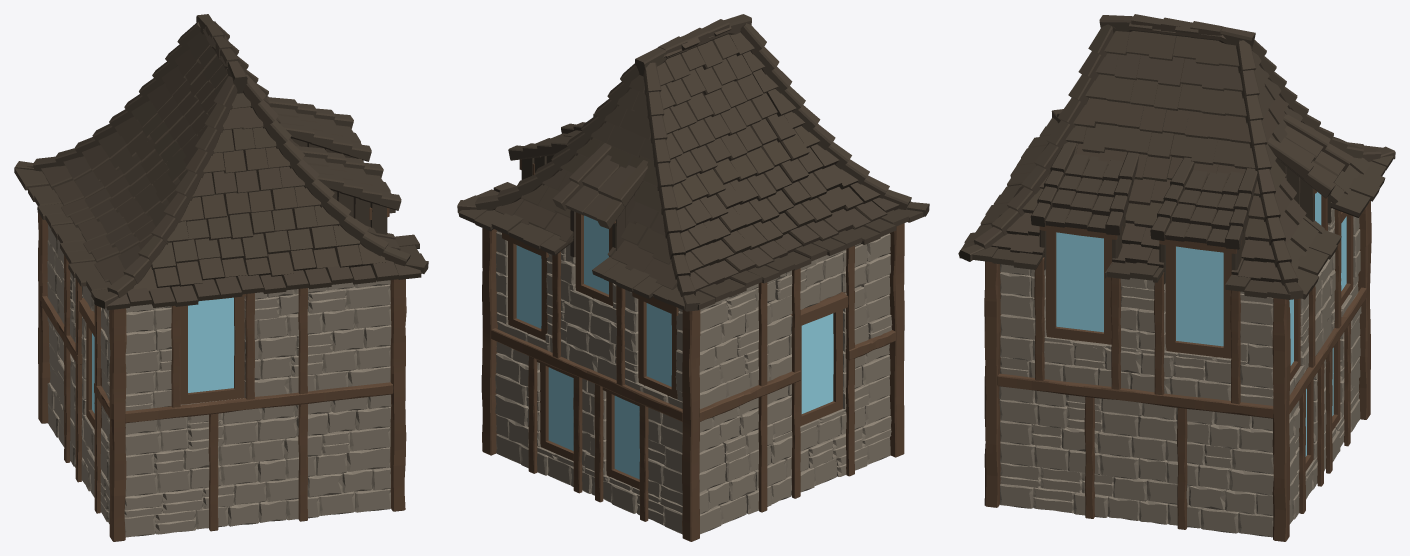
File: BuildingPart.fbx
3 views of the same model, side by side, from view 1: azimuth 30°, elevation 25°; view 2: azimuth 150°, elevation 25°; view 3: azimuth 270°, elevation 25° (orthographic). The views are drawn at different scales.
Visible parts, largest first — view 1: Pane, Beam_Clone__7, Beam_Clone__5, Beam_Clone__1, Frame, Beam_Clone__6, SubBeam_Clone__4, SubBeam_Clone__5, SubBeam_Clone__Clone__2, SubBeam_Clone__6, Frame_2, SubBeam_Clone__7 (+79 smaller); view 2: Beam_Clone__6, Beam_Clone__7, Beam_Clone__4, Pane_2, Beam_Clone__3, Frame_2, Pane_6, Pane_5, Pane_7, Pane_8, Frame_7, Frame_8 (+28 smaller); view 3: Pane_3, Pane_1, Beam_Clone__4, Beam_Clone__5, Beam_Clone__2, Frame_3, Frame_1, Beam_Clone__6, Beam_Clone__3, SubBeam_Clone__8, SubBeam_Clone__9, SubBeam_Clone__11 (+95 smaller).
Boxes of the visible parts, x1=… form: Pane: x1=188, y1=297, x2=234, y2=392; Beam_Clone__7: x1=109, y1=308, x2=126, y2=541; Beam_Clone__5: x1=390, y1=279, x2=406, y2=511; Beam_Clone__1: x1=125, y1=382, x2=393, y2=423; Frame: x1=180, y1=294, x2=246, y2=404; Beam_Clone__6: x1=37, y1=211, x2=50, y2=423; SubBeam_Clone__4: x1=298, y1=404, x2=307, y2=521; SubBeam_Clone__5: x1=208, y1=413, x2=218, y2=531; SubBeam_Clone__Clone__2: x1=245, y1=293, x2=254, y2=399; SubBeam_Clone__6: x1=298, y1=288, x2=307, y2=394; Frame_2: x1=79, y1=297, x2=101, y2=429; SubBeam_Clone__7: x1=171, y1=305, x2=180, y2=407; Beam_Clone__6: x1=682, y1=310, x2=700, y2=541; Beam_Clone__7: x1=889, y1=223, x2=904, y2=457; Beam_Clone__4: x1=481, y1=228, x2=497, y2=455; Pane_2: x1=801, y1=313, x2=833, y2=413; Beam_Clone__3: x1=491, y1=328, x2=682, y2=421; Frame_2: x1=790, y1=292, x2=848, y2=426; Pane_6: x1=614, y1=395, x2=639, y2=479; Pane_5: x1=548, y1=367, x2=573, y2=450; Pane_7: x1=516, y1=245, x2=541, y2=328; Pane_8: x1=646, y1=303, x2=671, y2=386; Frame_7: x1=502, y1=232, x2=548, y2=340; Frame_8: x1=632, y1=292, x2=678, y2=399; Pane_3: x1=1176, y1=246, x2=1223, y2=346; Pane_1: x1=1056, y1=232, x2=1103, y2=332; Beam_Clone__4: x1=1272, y1=298, x2=1290, y2=541; Beam_Clone__5: x1=984, y1=261, x2=1001, y2=507; Beam_Clone__2: x1=997, y1=373, x2=1273, y2=418; Frame_3: x1=1159, y1=239, x2=1241, y2=358; Frame_1: x1=1039, y1=225, x2=1122, y2=344; Beam_Clone__6: x1=1358, y1=201, x2=1371, y2=419; Beam_Clone__3: x1=1289, y1=287, x2=1366, y2=413; SubBeam_Clone__8: x1=1177, y1=407, x2=1187, y2=529; SubBeam_Clone__9: x1=1084, y1=397, x2=1094, y2=518; SubBeam_Clone__11: x1=1034, y1=257, x2=1044, y2=380.
Size of the model in its own units: 185 by 206 by 186.
